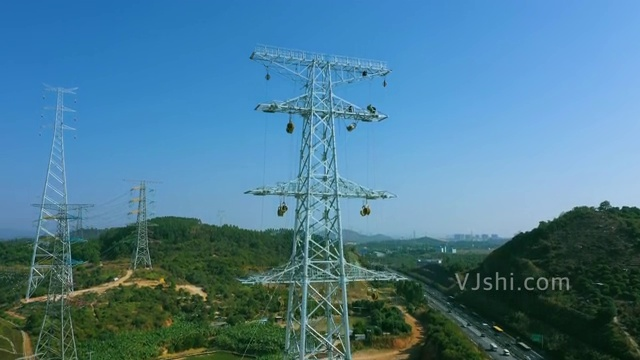tower_body: (237, 38, 408, 360), (26, 82, 77, 300), (124, 176, 157, 271)
tower_foot: (283, 289, 352, 360)
tower_head: (245, 44, 401, 123)
